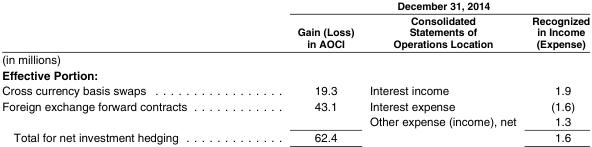table: (1, 1, 589, 143)
table column: (1, 1, 241, 143), (361, 1, 523, 143), (241, 1, 361, 143), (523, 1, 589, 143)
table column header: (1, 1, 589, 67)
table projected row header: (1, 67, 589, 83)
table row: (1, 13, 589, 67), (1, 67, 589, 83), (1, 98, 589, 114), (1, 83, 589, 98), (1, 114, 589, 129), (1, 129, 589, 143), (1, 1, 589, 13)
table spanning cell: (1, 1, 241, 67), (241, 1, 589, 13)
